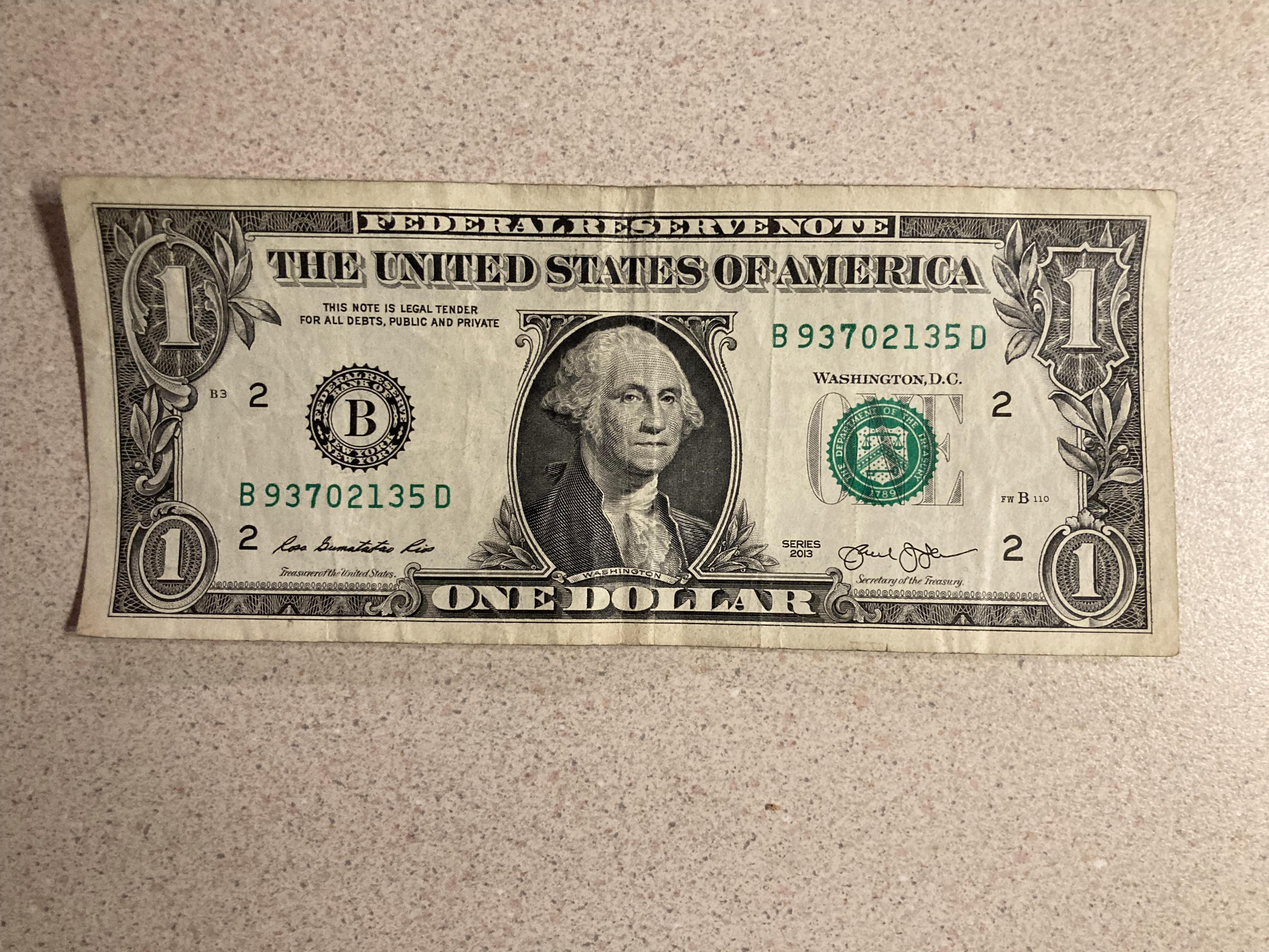one-front: (59, 180, 1180, 663)
